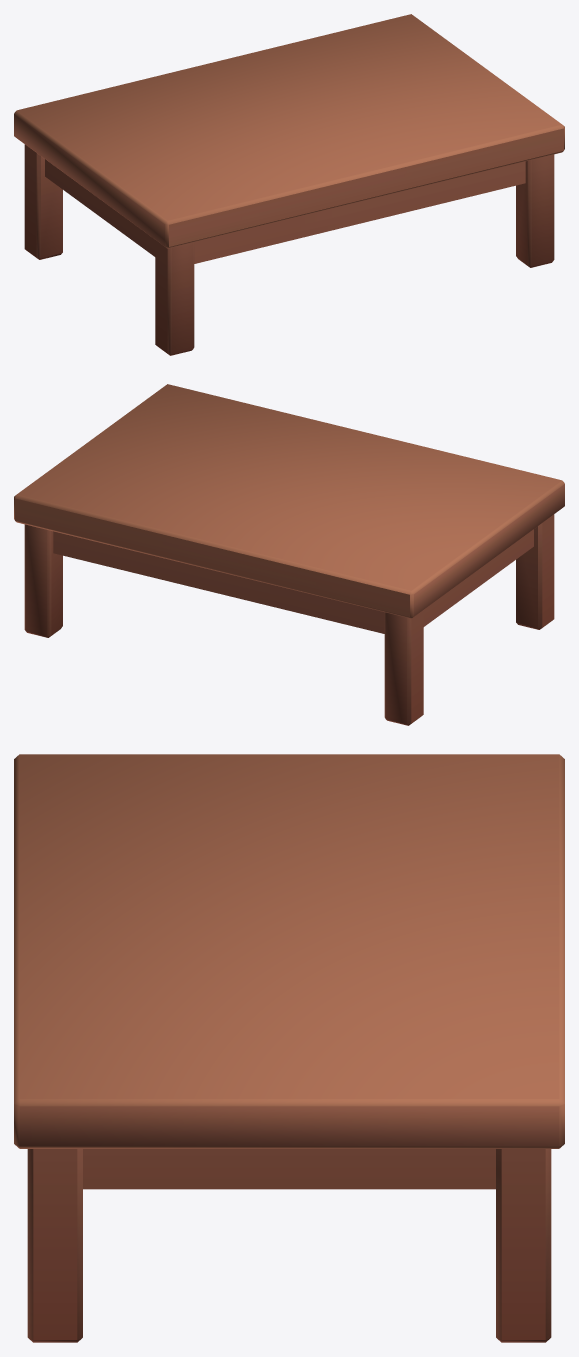
Rendered from table-long.glb.
3 renders of one model, top to bottom at view 1: azimuth 30°, elevation 25°; view 2: azimuth 150°, elevation 25°; view 3: azimuth 270°, elevation 25°, orthographic. The views are drawn at different scales.
Parts seen in each view (by area): view 1: table_medium_long; view 2: table_medium_long; view 3: table_medium_long.
Part boxes in pixels (left/top/right/bottom): table_medium_long: left=14, top=14, right=564, bottom=355; table_medium_long: left=14, top=384, right=564, bottom=725; table_medium_long: left=14, top=754, right=564, bottom=1342.
Size of the model in its own units: 2.25 by 0.7499 by 1.5.
1 material, 1 textured.
